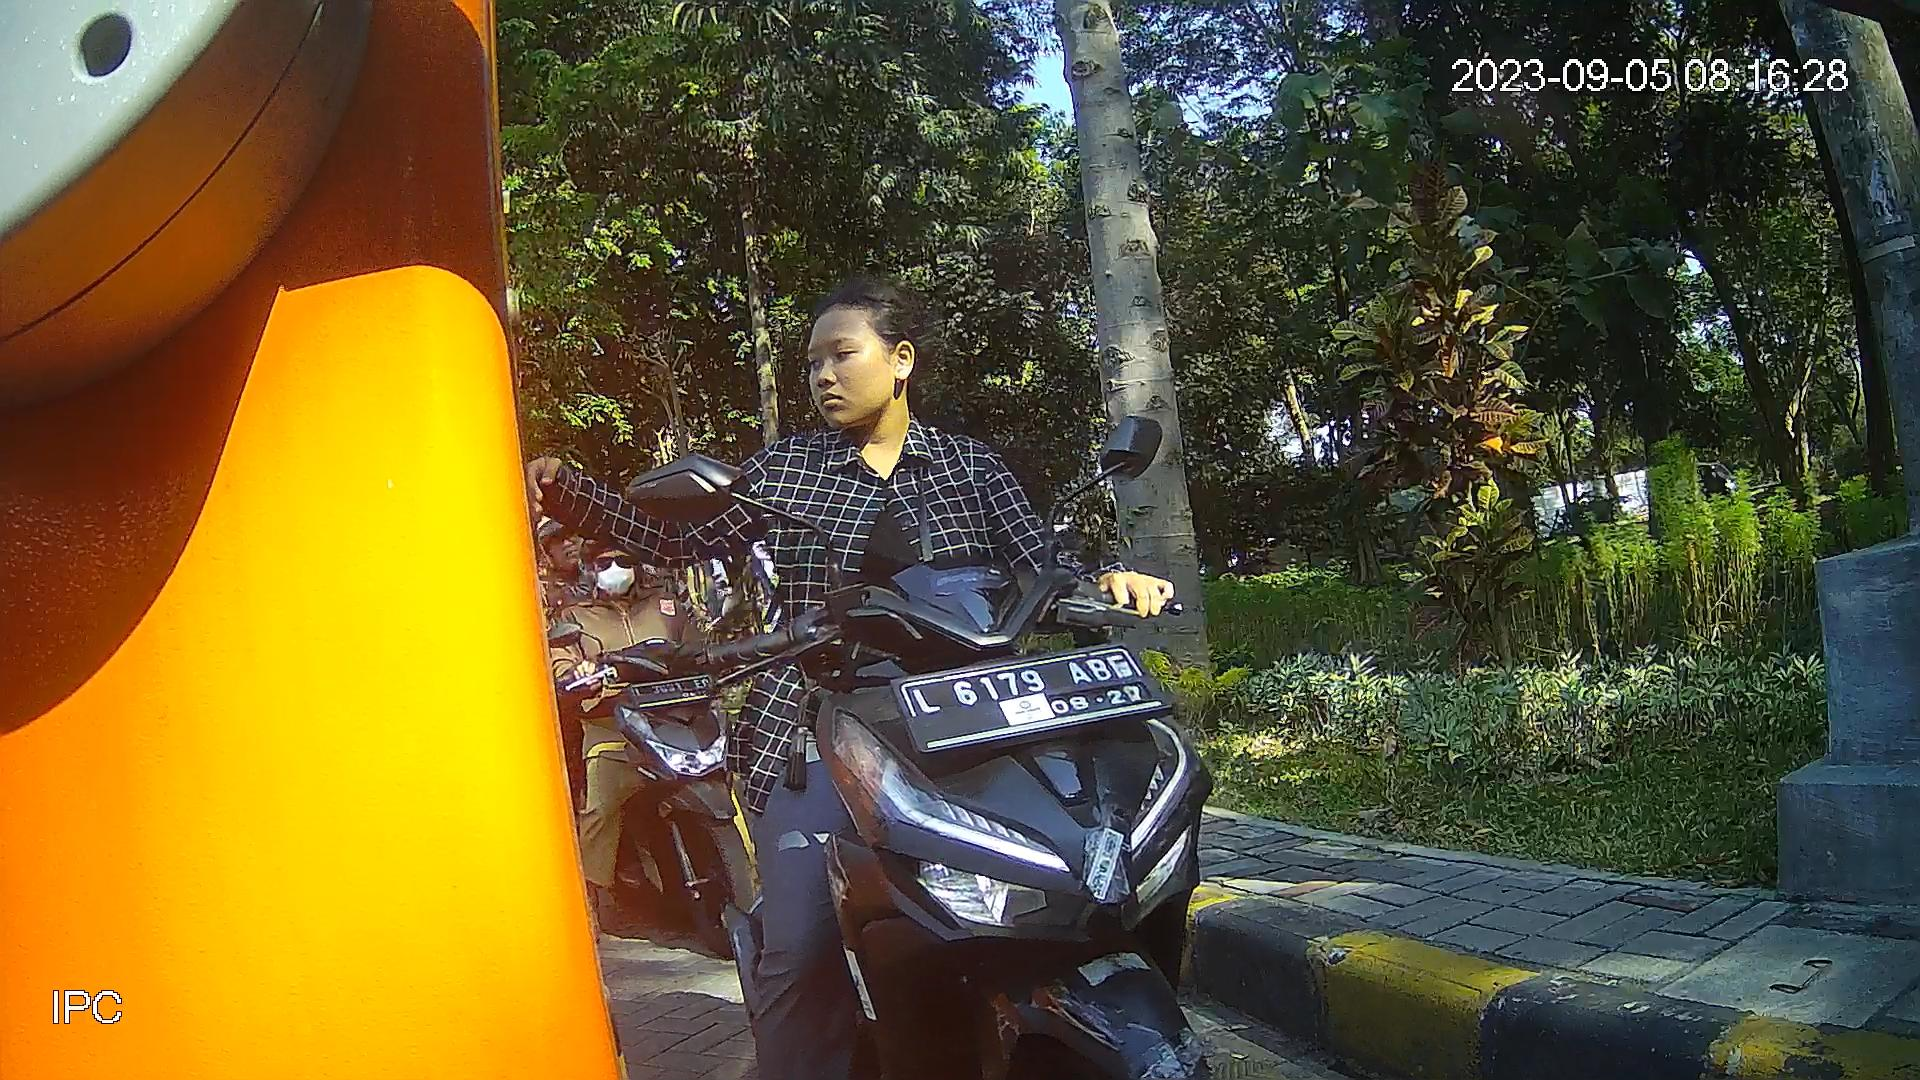plat: (886, 641, 1176, 760)
